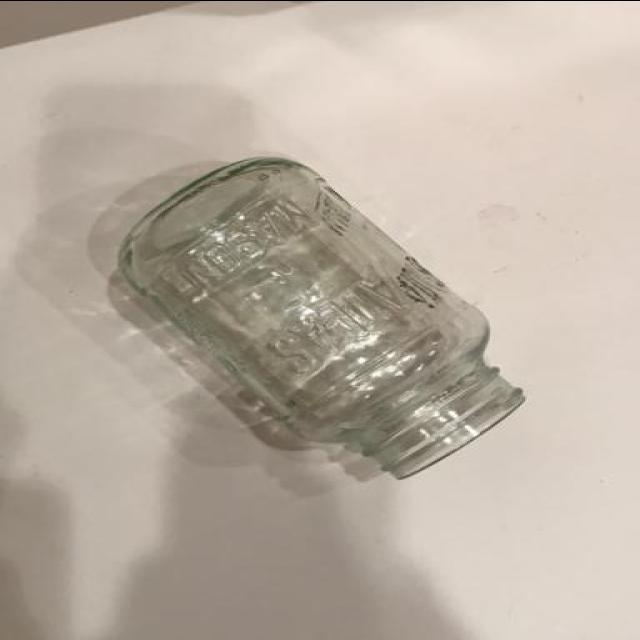glass: (90, 147, 534, 508)
